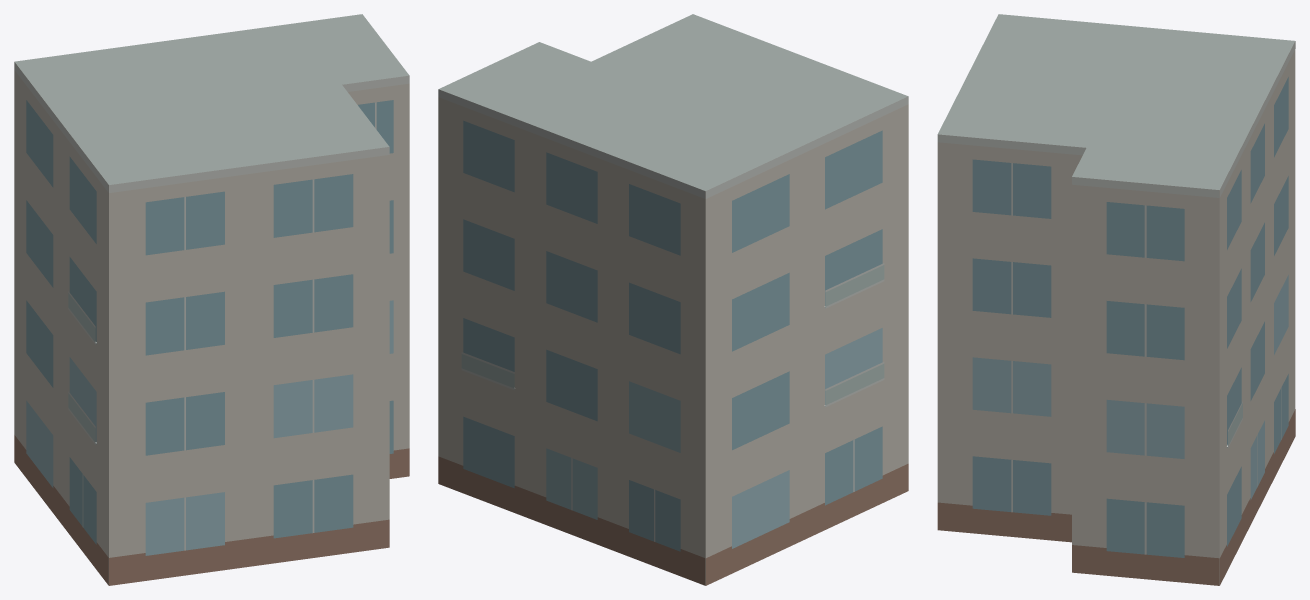
Rendered from residential-615fc868-92df-41b1-adef-8daf7e8e5bac.glb.
3 renders of one model, left to right at view 1: azimuth 30°, elevation 25°; view 2: azimuth 150°, elevation 25°; view 3: azimuth 270°, elevation 25°, orthographic.
Visible parts, largest first — view 1: residential-615fc868-92df-41b1-adef-8daf7e8e5bac.tmp; view 2: residential-615fc868-92df-41b1-adef-8daf7e8e5bac.tmp; view 3: residential-615fc868-92df-41b1-adef-8daf7e8e5bac.tmp.
Part boxes in pixels (<box>): residential-615fc868-92df-41b1-adef-8daf7e8e5bac.tmp: <box>14,14,409,585</box>; residential-615fc868-92df-41b1-adef-8daf7e8e5bac.tmp: <box>438,14,908,585</box>; residential-615fc868-92df-41b1-adef-8daf7e8e5bac.tmp: <box>937,14,1295,585</box>.
Size of the model in its own units: 11.65 by 12.2 by 10.01.
